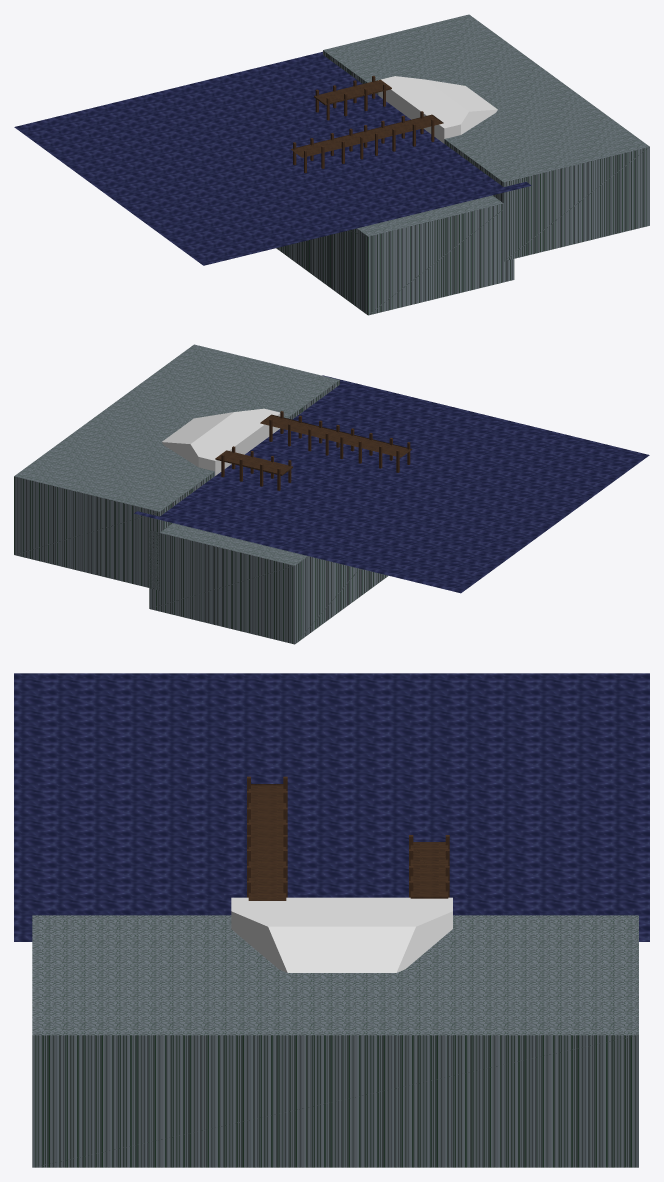
The model's file is city.glb.
3 views of the same model, one above another, from view 1: azimuth 30°, elevation 25°; view 2: azimuth 150°, elevation 25°; view 3: azimuth 270°, elevation 25° (orthographic). The views are drawn at different scales.
Visible parts, largest first — view 1: Plane, Cube.032, Cube.002, Cube.013, Cube.012, Cube.003; view 2: Plane, Cube.032, Cube.002, Cube.013, Cube.012, Cube.003; view 3: Plane, Cube.032, Cube.013, Cube.012, Cube.003.
Boxes of the visible parts, x1=… form: Plane: x1=14, y1=51, x2=531, y2=265; Cube.032: x1=323, y1=14, x2=649, y2=261; Cube.002: x1=276, y1=195, x2=514, y2=315; Cube.013: x1=378, y1=76, x2=497, y2=143; Cube.012: x1=291, y1=114, x2=443, y2=157; Cube.003: x1=314, y1=79, x2=391, y2=105; Plane: x1=134, y1=375, x2=649, y2=593; Cube.032: x1=14, y1=344, x2=339, y2=590; Cube.002: x1=149, y1=523, x2=388, y2=644; Cube.013: x1=162, y1=408, x2=280, y2=475; Cube.012: x1=260, y1=414, x2=411, y2=457; Cube.003: x1=215, y1=450, x2=292, y2=475; Plane: x1=14, y1=673, x2=649, y2=941; Cube.032: x1=32, y1=915, x2=638, y2=1167; Cube.013: x1=231, y1=897, x2=452, y2=972; Cube.012: x1=248, y1=784, x2=286, y2=900; Cube.003: x1=410, y1=842, x2=448, y2=898.
Bounding box in the file's own units: 127 × 31.53 × 92.62.
Materials: 4 (4 with a texture image).
